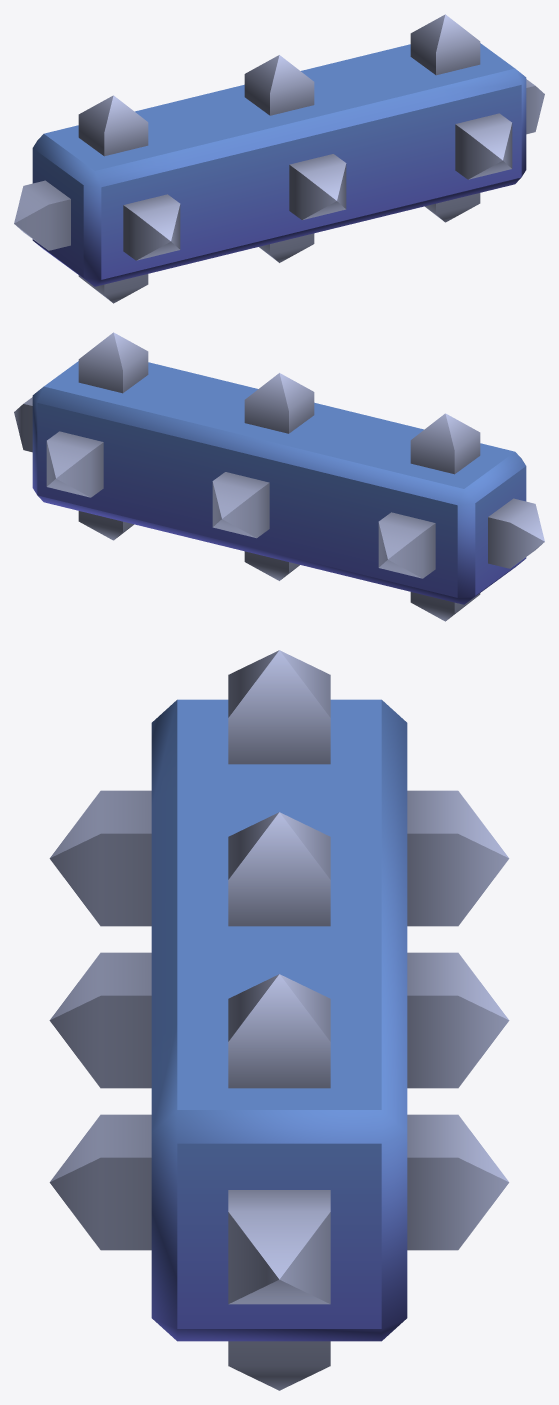
Rendered from spike-block-wide.glb.
3 renders of one model, top to bottom at view 1: azimuth 30°, elevation 25°; view 2: azimuth 150°, elevation 25°; view 3: azimuth 270°, elevation 25°, orthographic. The views are drawn at different scales.
Visible parts, largest first — view 1: spike-block-wide; view 2: spike-block-wide; view 3: spike-block-wide.
Boxes of the visible parts, box(x1,y1,x2,y2) form: spike-block-wide: box(14, 14, 544, 303); spike-block-wide: box(14, 332, 544, 621); spike-block-wide: box(49, 650, 509, 1390).
Bounding box in the file's own units: 2.4 × 0.9 × 0.9.
1 material, 1 textured.
